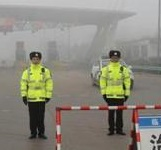person: (20, 52, 54, 140), (99, 50, 131, 136)
